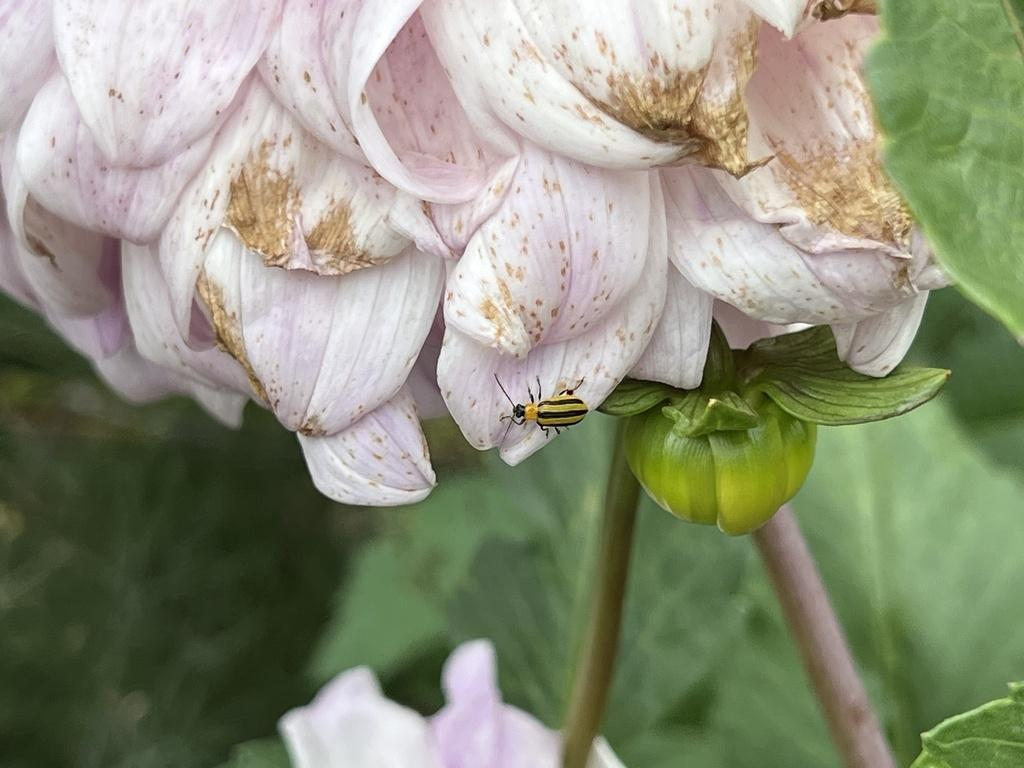potato_beetle: (474, 358, 609, 457)
